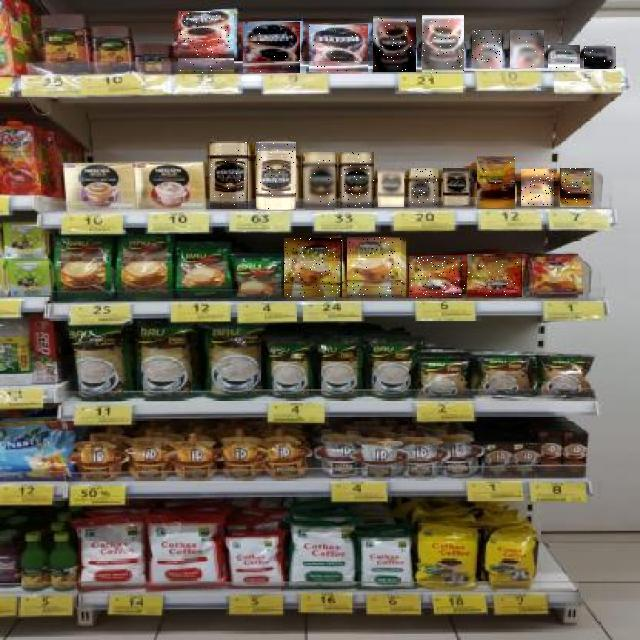Coffee: (178, 12, 234, 74), (284, 238, 342, 297), (348, 238, 404, 298), (243, 22, 300, 73), (309, 25, 368, 73), (256, 142, 296, 210), (210, 142, 248, 209), (422, 16, 464, 74), (373, 17, 416, 73), (467, 254, 522, 297), (410, 256, 466, 298), (477, 156, 515, 209), (340, 152, 374, 208), (305, 152, 335, 210), (560, 168, 594, 207), (510, 30, 544, 68), (522, 169, 556, 206), (473, 30, 503, 68), (378, 168, 404, 207), (412, 169, 438, 207), (443, 169, 469, 207), (548, 46, 580, 70), (584, 46, 616, 69)
